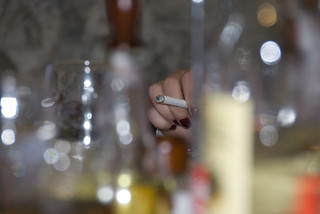cigarette: (154, 92, 189, 111)
